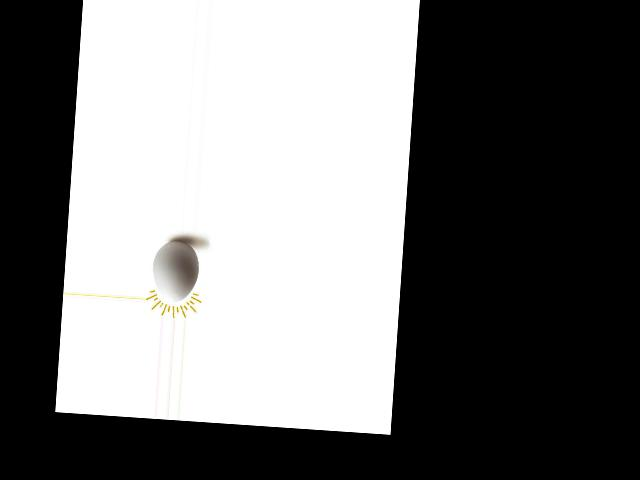egg: (149, 239, 200, 302)
